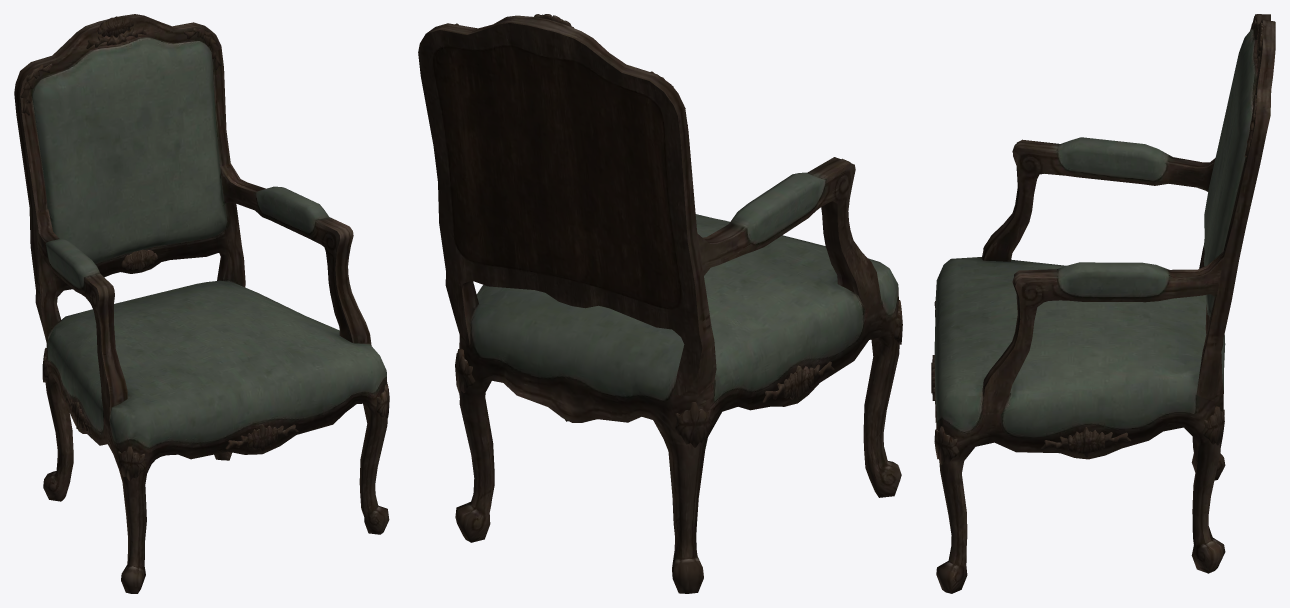
File: greenchair_01.glb
3 renders of one model, left to right at view 1: azimuth 30°, elevation 25°; view 2: azimuth 150°, elevation 25°; view 3: azimuth 270°, elevation 25°, orthographic. The views are drawn at different scales.
Parts seen in each view (by area): view 1: GreenChair_01; view 2: GreenChair_01; view 3: GreenChair_01.
Part boxes in pixels (box(x1,y1,x2,y2)): GreenChair_01: box(14, 14, 389, 593); GreenChair_01: box(418, 14, 902, 593); GreenChair_01: box(931, 14, 1275, 593).
Size of the model in its own units: 0.6732 by 1.06 by 0.6644.
Materials: 1 (1 with a texture image).
